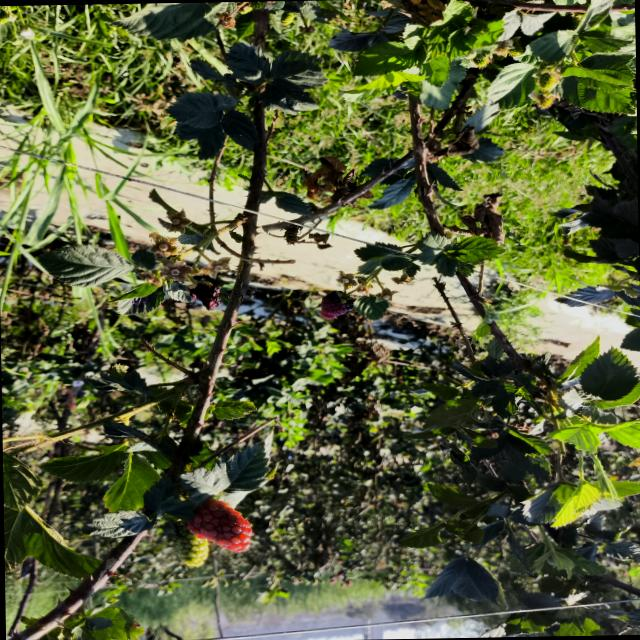marron: (320, 291, 353, 319)
naranja: (188, 498, 253, 551)
verde: (177, 528, 208, 567)
